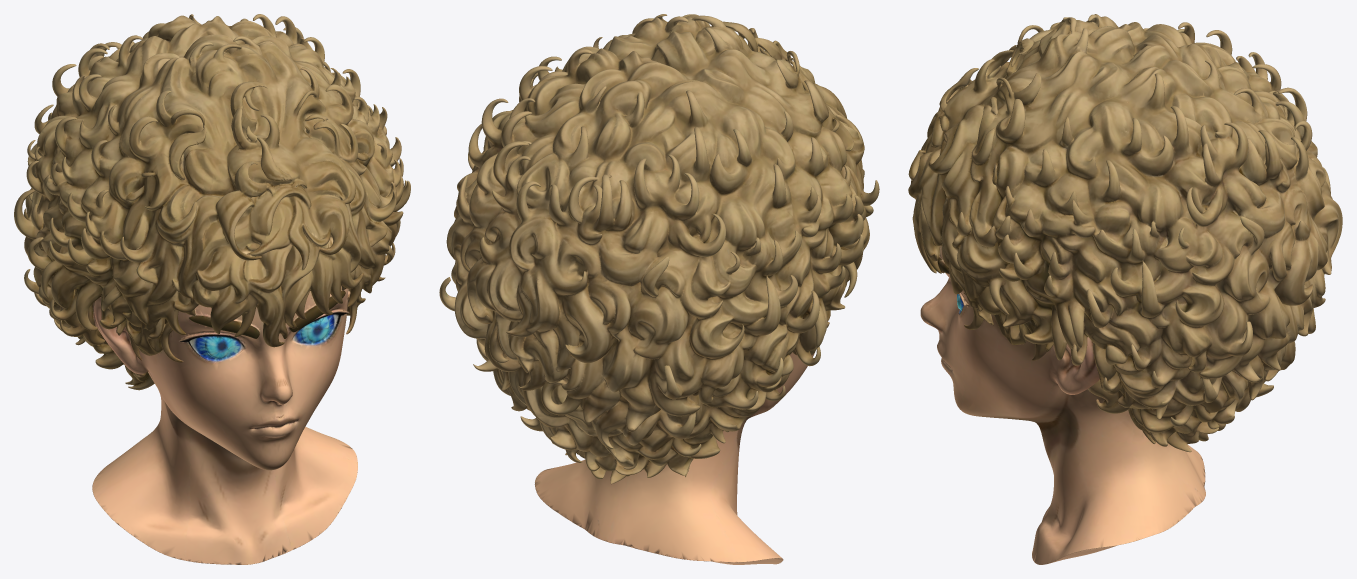
The model's file is kafa-D.glb.
The picture shows the model from 3 angles, left to right: view 1: azimuth 30°, elevation 25°; view 2: azimuth 150°, elevation 25°; view 3: azimuth 270°, elevation 25°; orthographic projection. The views are drawn at different scales.
Visible parts, largest first — view 1: KAFA_YILDIRIM_D; view 2: KAFA_YILDIRIM_D; view 3: KAFA_YILDIRIM_D.
Boxes of the visible parts, left/top/right/bottom form: KAFA_YILDIRIM_D: left=14, top=14, right=410, bottom=564; KAFA_YILDIRIM_D: left=439, top=14, right=879, bottom=564; KAFA_YILDIRIM_D: left=908, top=14, right=1342, bottom=564.
Size of the model in its own units: 0.4657 by 0.6613 by 0.5005.
1 material, 1 textured.
